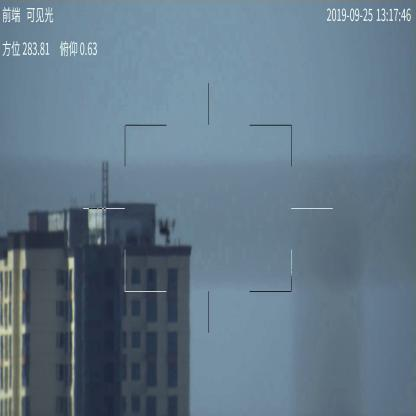uav: (153, 218, 177, 245)
